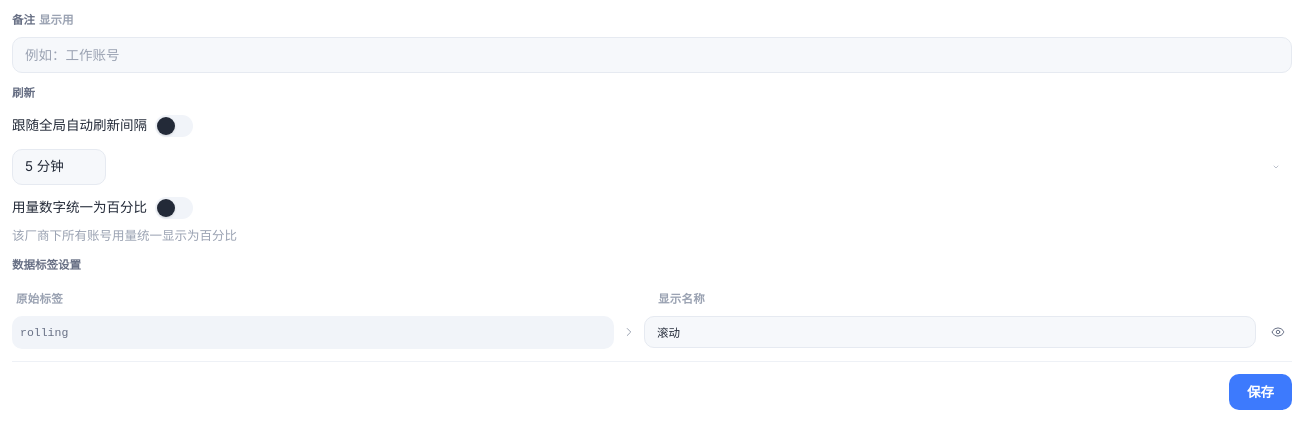
Test: SettingsForm › distinguishes committed account stage when a later save step fails (t356 AC-004)
The width and height of the screenshot is (1304, 427).
Replace the text in the field showing "滚动" with "自定义标签" at (950, 332), box [644,316,1256,348]
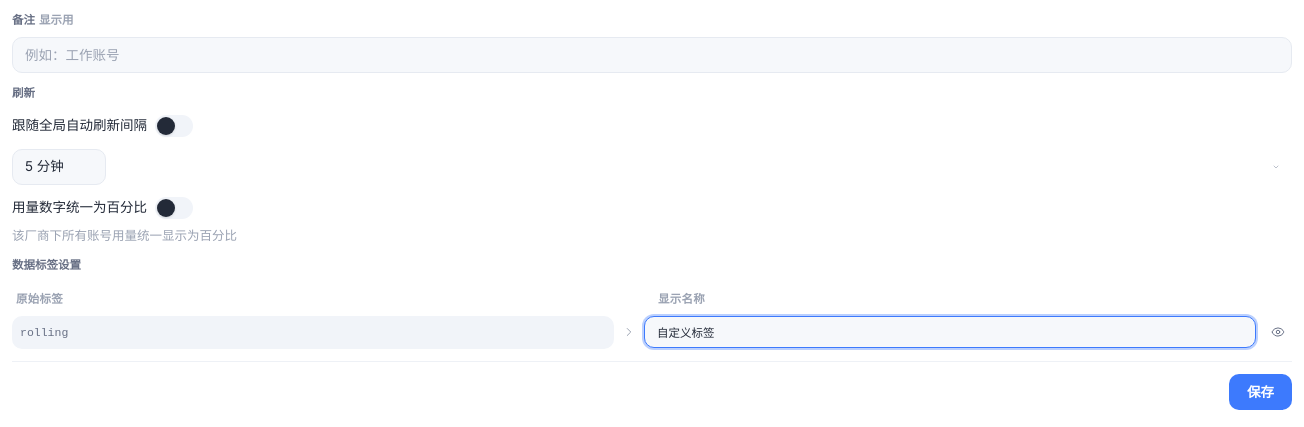
Click the button with test id "settings-save-btn-opencode-go-1".
click(1260, 392)  # box [1229,374,1292,410]
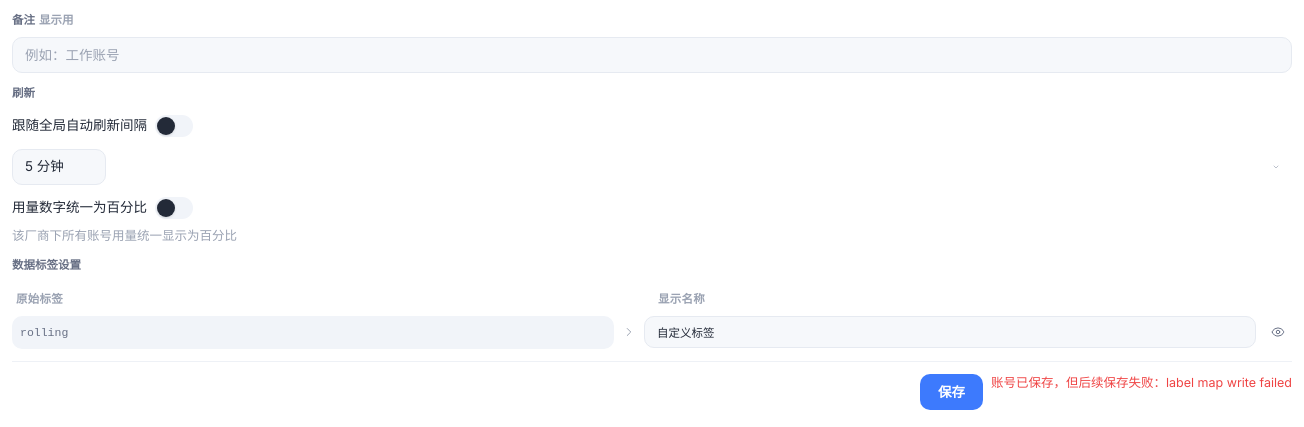
Now the message shows "账号已保存", box [991,375,1292,390]
Now the message shows "label map write failed", box [991,375,1292,390]
